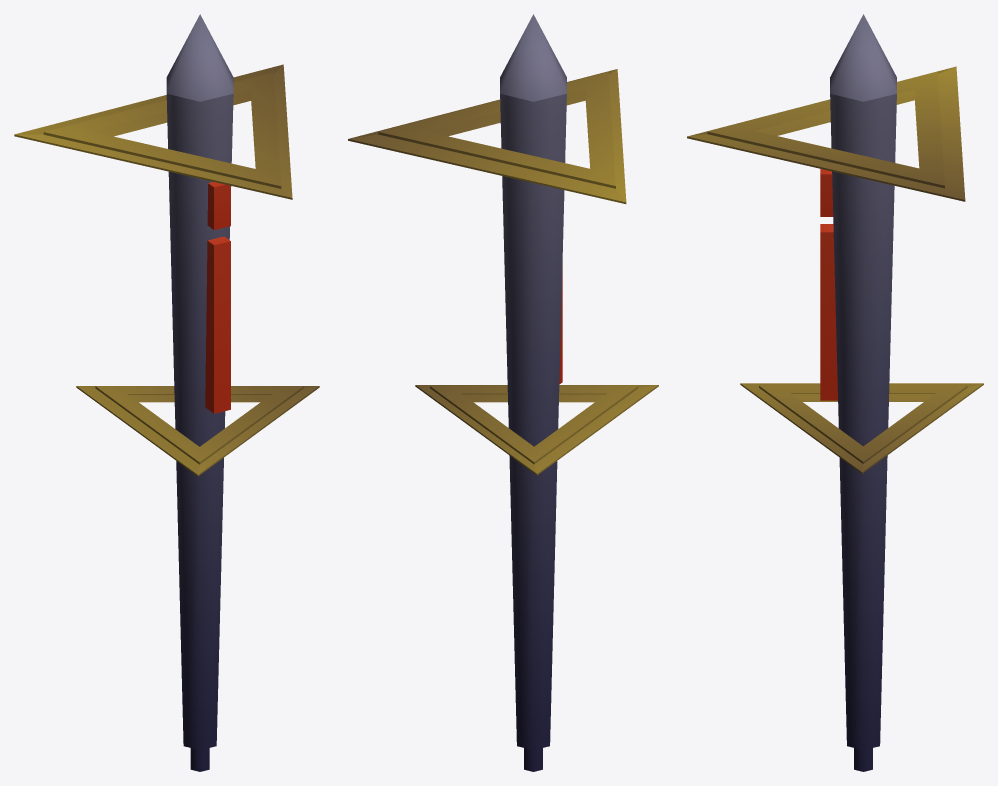
File: MazaLapiz.fbx
The picture shows the model from 3 angles, left to right: view 1: azimuth 30°, elevation 25°; view 2: azimuth 150°, elevation 25°; view 3: azimuth 270°, elevation 25°; orthographic projection.
Parts seen in each view (by area): view 1: WACOM_DE_FUEGO; view 2: WACOM_DE_FUEGO; view 3: WACOM_DE_FUEGO.
Boxes of the visible parts, x1,y1,x2,y2 form: WACOM_DE_FUEGO: (14,14,319,771); WACOM_DE_FUEGO: (348,14,658,771); WACOM_DE_FUEGO: (687,14,983,771).
Size of the model in its own units: 557 by 1464 by 523.
